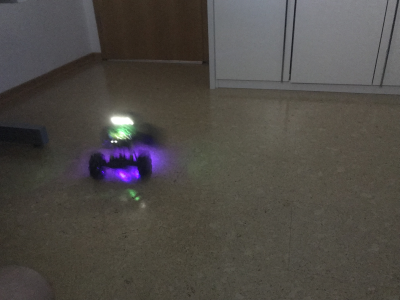remote control car: (82, 113, 159, 183)
